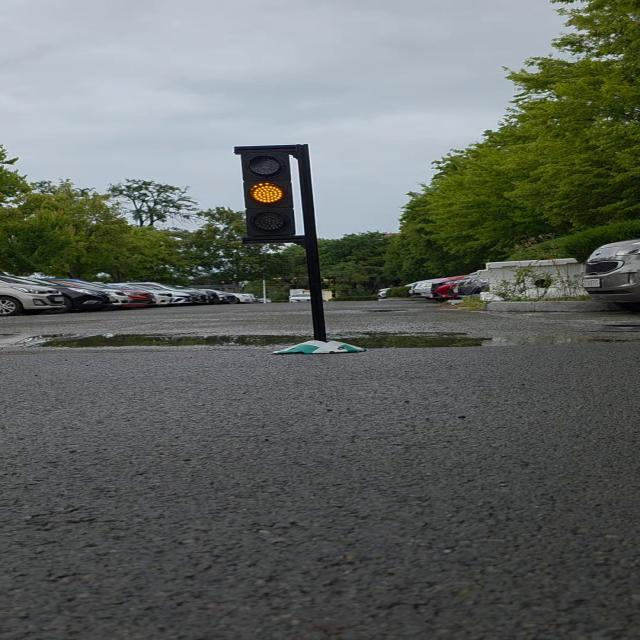yellow: (236, 146, 316, 242)
